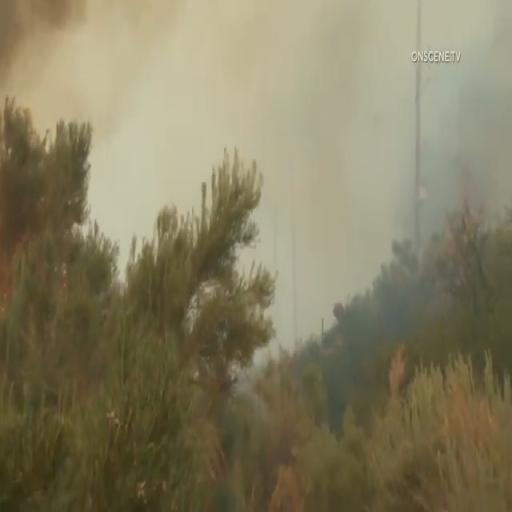smoke: (0, 0, 99, 122)
